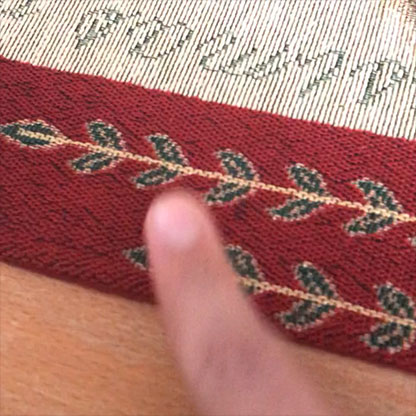fingertip: (129, 180, 228, 267)
